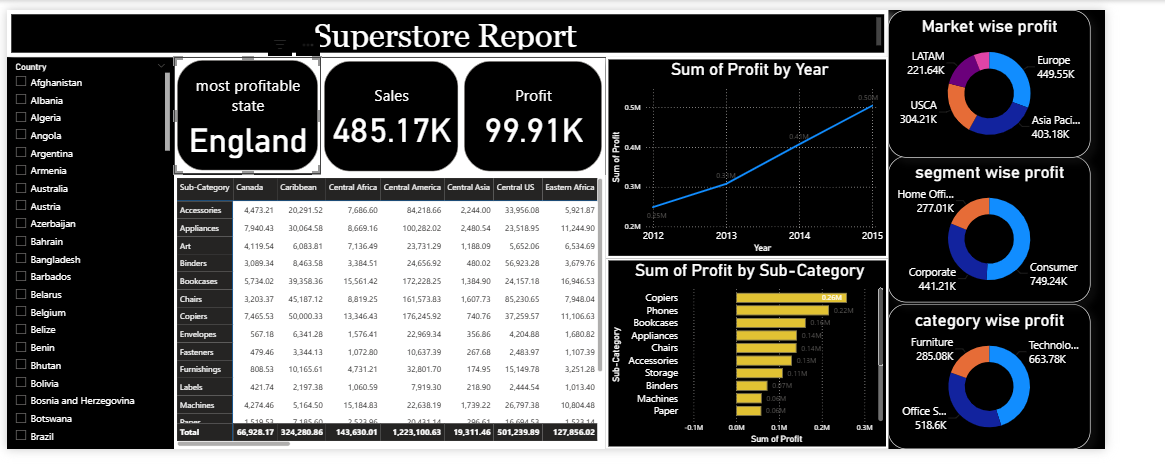

The page's visual inventory and layout, read from the dashboard file:
{"tool":"powerbi","page":{"name":"Page 1","canvas":[1800,720],"ordinal":0},"visuals":[{"type":"textbox","box":[0,0,1445,76.7],"z":0},{"type":"donutChart","title":"category wise profit","fields":{"Category":["Orders.Category"],"Y":["Sum(Orders.Profit)"]},"box":[1445,481.7,331.7,238.3],"z":1000},{"type":"donutChart","title":"segment wise profit","fields":{"Y":["Sum(Orders.Profit)"],"Category":["Orders.Segment"]},"box":[1445,240,331.7,240],"z":2000},{"type":"donutChart","title":"Market wise profit","fields":{"Y":["Sum(Orders.Profit)"],"Category":["Orders.Market"]},"box":[1445,0,331.7,241.7],"z":3000},{"type":"barChart","fields":{"Y":["Sum(Orders.Profit)"],"Category":["Orders.Sub-Category"]},"box":[981.7,406.7,463.3,313.3],"z":4000},{"type":"lineChart","fields":{"Y":["Sum(Orders.Profit)"],"Category":["Orders.Order Date.Variation.Date Hierarchy.Year"]},"box":[981.7,76.7,463.3,330],"z":5000},{"type":"slicer","fields":{"Values":["Orders.Country"]},"box":[0,79.1,273.1,640.3],"z":6000},{"type":"pivotTable","fields":{"Rows":["Orders.Sub-Category"],"Values":["Sum(Orders.Sales)"],"Columns":["Orders.Region"]},"box":[273.3,270,708.3,450],"z":7000},{"type":"cardVisual","fields":{"Data":["Min(Orders.State)"]},"box":[273.3,76.7,241.7,191.7],"z":8000},{"type":"cardVisual","fields":{"Data":["Sum(Orders.Sales)"]},"box":[515,78.3,230,191.7],"z":9000},{"type":"cardVisual","fields":{"Data":["Sum(Orders.Profit)"]},"box":[745,78.3,236.7,191.7],"z":10000}]}

Visuals, with their boxes in screenshot pixels (x1, y1, x2, y2), scaled from the page's 1800x720 canvas onto the 1165x466 screenshot:
textbox: [x1=0, y1=0, x2=935, y2=50]
"category wise profit" donutChart: [x1=935, y1=312, x2=1150, y2=465]
"segment wise profit" donutChart: [x1=935, y1=155, x2=1150, y2=311]
"Market wise profit" donutChart: [x1=935, y1=0, x2=1150, y2=156]
barChart - Sum(Orders.Profit) x Orders.Sub-Category: [x1=635, y1=263, x2=935, y2=465]
lineChart - Sum(Orders.Profit) x Orders.Order Date.Variation.Date Hierarchy.Year: [x1=635, y1=50, x2=935, y2=263]
slicer - Orders.Country: [x1=0, y1=51, x2=177, y2=465]
pivotTable - Orders.Sub-Category x Sum(Orders.Sales): [x1=177, y1=175, x2=635, y2=465]
cardVisual - Min(Orders.State): [x1=177, y1=50, x2=333, y2=174]
cardVisual - Sum(Orders.Sales): [x1=333, y1=51, x2=482, y2=175]
cardVisual - Sum(Orders.Profit): [x1=482, y1=51, x2=635, y2=175]
